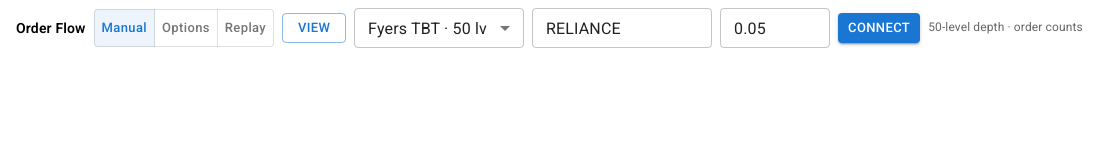
Test: OrderFlowPage › options mode loads underlyings, expiries and chain with ATM strike default
Click the button "Options" at (186, 28), box [154, 9, 218, 47]
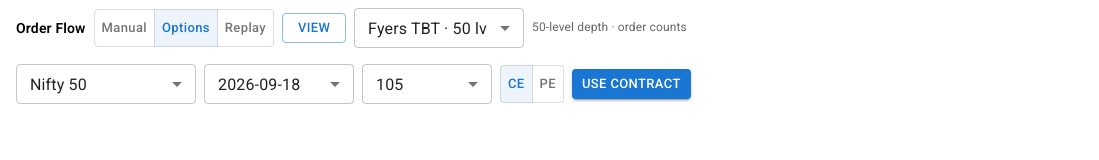
Result: the dropdown "105" is shown at [376, 74, 403, 94]
